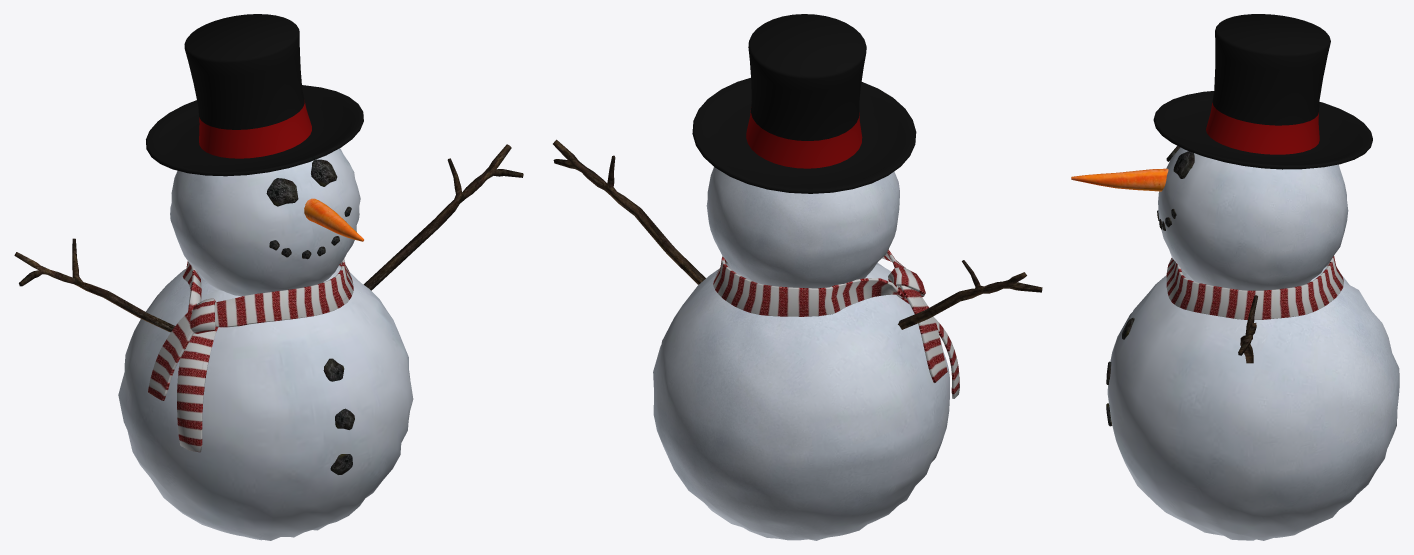
Rendered from s_snowman.glb.
The picture shows the model from 3 angles, left to right: view 1: azimuth 30°, elevation 25°; view 2: azimuth 150°, elevation 25°; view 3: azimuth 270°, elevation 25°; orthographic projection.
Size of the model in its own units: 2.65 by 2.53 by 1.53.
Materials: 1 (1 with a texture image).
